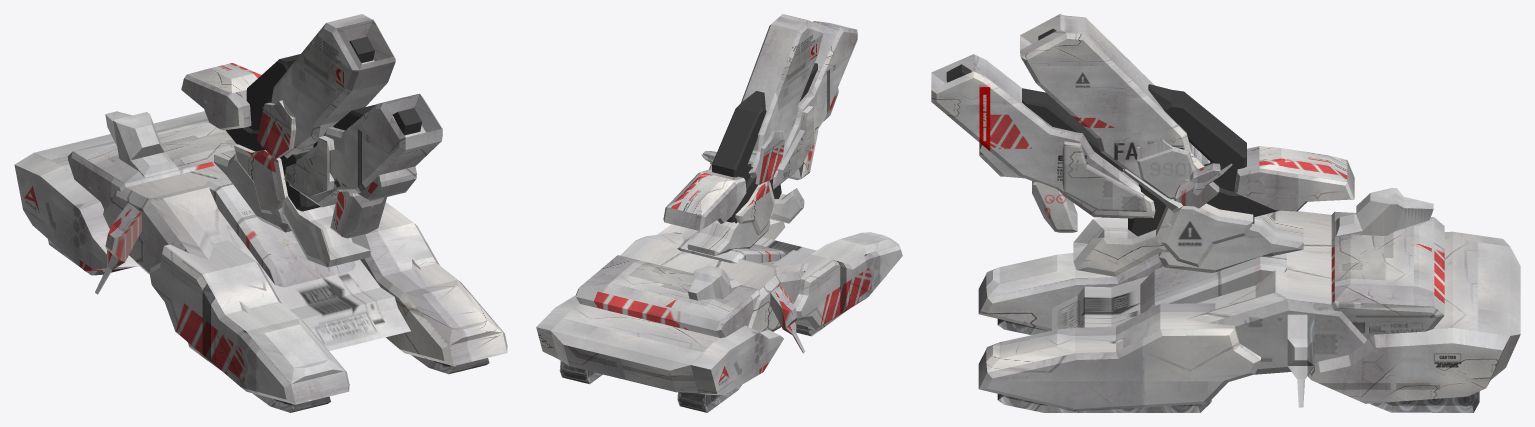
The model's file is omega_tank_02.FBX.
3 renders of one model, left to right at view 1: azimuth 30°, elevation 25°; view 2: azimuth 150°, elevation 25°; view 3: azimuth 270°, elevation 25°, orthographic. The views are drawn at different scales.
Parts seen in each view (by area): view 1: body01, top01, body02, top02; view 2: body01, top01, top02, body02; view 3: body01, top01, top02, body02.
Boxes of the visible parts, x1,y1,x2,y2 form: body01: [14, 111, 507, 404]; top01: [181, 14, 442, 267]; body02: [48, 176, 489, 412]; top02: [226, 37, 421, 211]; body01: [536, 219, 902, 394]; top01: [663, 14, 857, 255]; top02: [712, 63, 817, 223]; body02: [559, 238, 886, 412]; body01: [978, 188, 1520, 411]; top01: [931, 14, 1354, 276]; top02: [946, 28, 1278, 236]; body02: [997, 253, 1479, 412].
Bounding box in the file's own units: 37.03 × 44.79 × 69.59.
